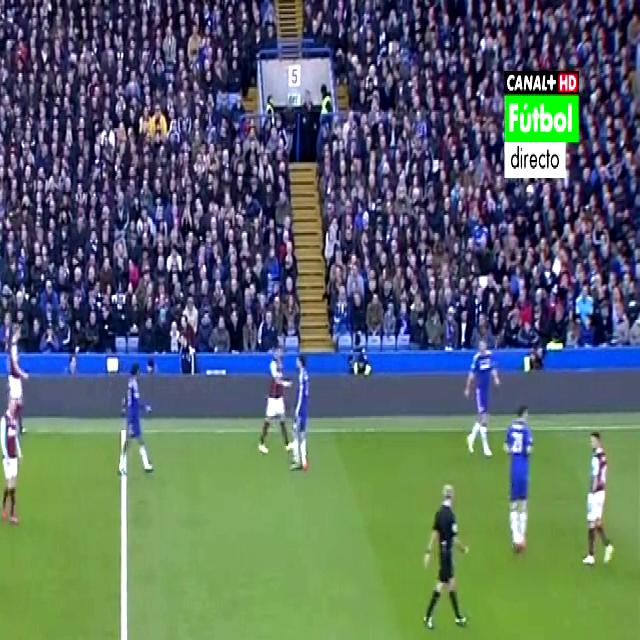referee: (414, 456, 474, 640)
soccer-player: (571, 411, 618, 571), (114, 354, 160, 486), (502, 395, 536, 557), (461, 338, 502, 454), (285, 352, 319, 482), (0, 311, 38, 414), (261, 336, 290, 458), (0, 396, 26, 521)
